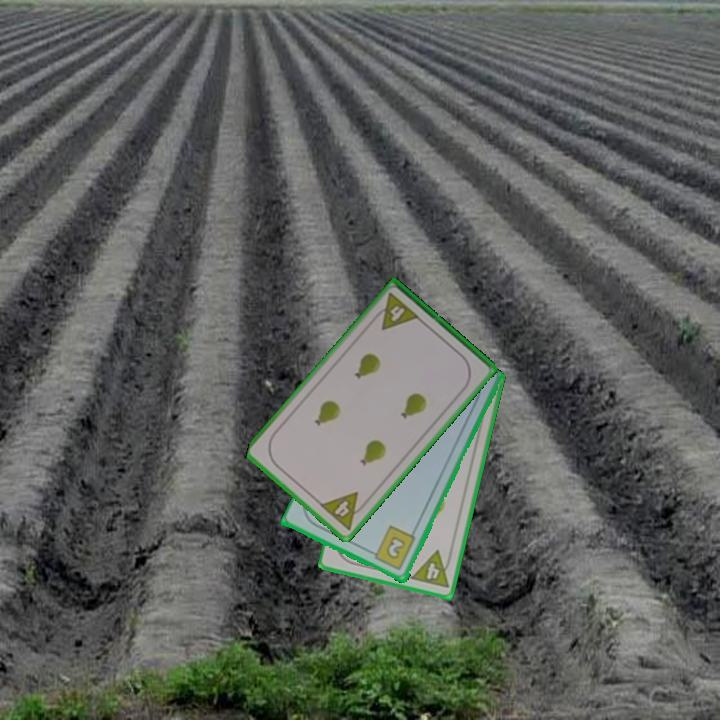2b: (366, 523, 418, 573)
4p: (316, 488, 371, 533), (369, 289, 422, 333), (407, 547, 455, 591)
